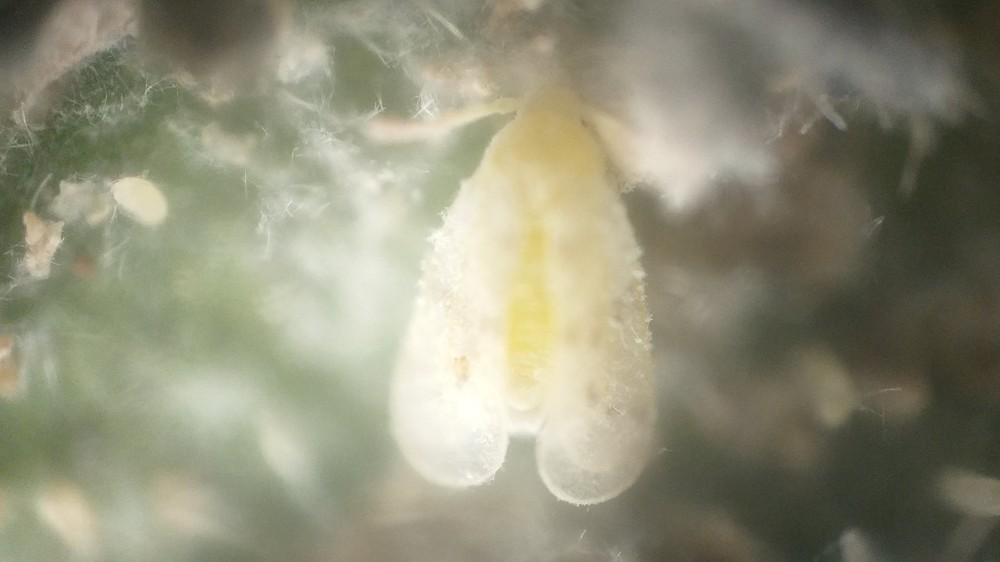Mosca Blanca: (323, 67, 723, 521)
